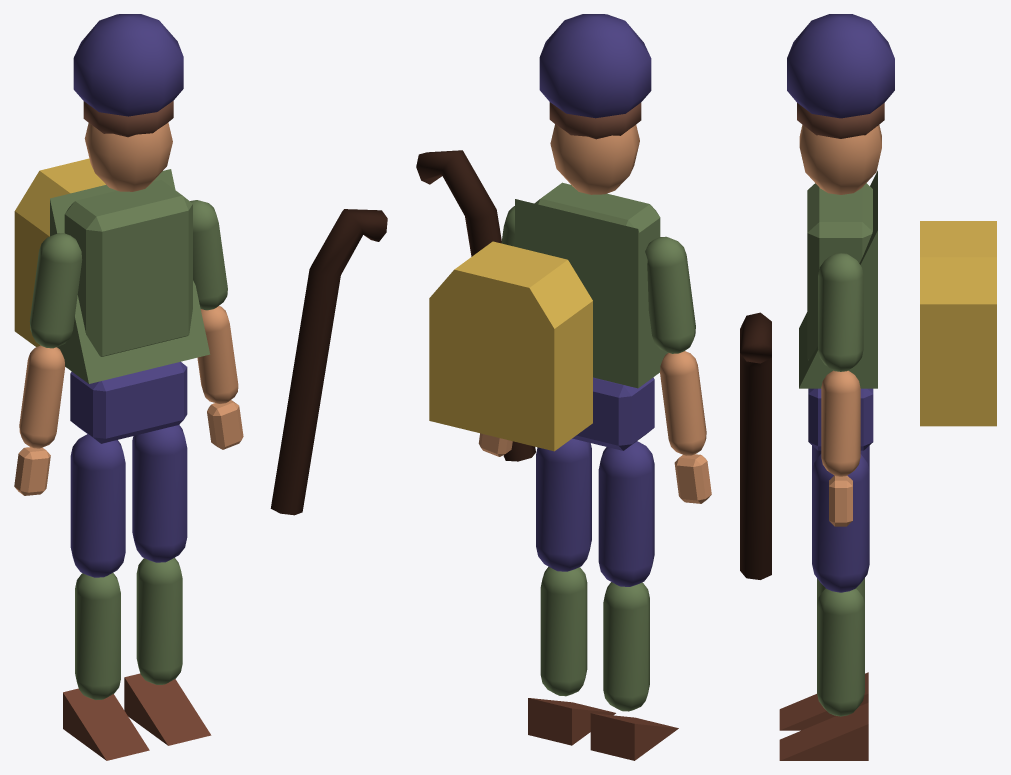
File: adventurer.rustic.glb
3 views of the same model, side by side, from view 1: azimuth 30°, elevation 25°; view 2: azimuth 150°, elevation 25°; view 3: azimuth 270°, elevation 25° (orthographic).
Visible parts, largest first — view 1: torso, accessory.main-hand, accessory.head, thigh.left, pelvis, thigh.right, tunic, shin.right, accessory.back, shin.left, upper-arm.left, head (+8 smaller); view 2: accessory.back, tunic, accessory.head, thigh.left, thigh.right, shin.right, shin.left, upper-arm.left, head, accessory.main-hand, pelvis, forearm.left (+6 smaller); view 3: accessory.back, accessory.head, accessory.main-hand, shin.right, thigh.right, torso, upper-arm.right, head, tunic, forearm.right, foot.right, hair (+3 smaller).
Boxes of the visible parts, <box> form: torso: <box>64,180,192,356</box>; accessory.main-hand: <box>270,209,387,515</box>; accessory.head: <box>73,14,183,116</box>; thigh.left: <box>70,434,125,577</box>; pelvis: <box>70,361,187,443</box>; thigh.right: <box>132,425,187,562</box>; tunic: <box>50,169,210,383</box>; shin.right: <box>136,557,182,684</box>; accessory.back: <box>14,158,105,346</box>; shin.left: <box>75,573,120,699</box>; upper-arm.left: <box>29,233,82,348</box>; head: <box>84,122,172,191</box>; accessory.back: <box>429,241,592,451</box>; tunic: <box>515,199,668,388</box>; accessory.head: <box>539,14,651,118</box>; thigh.left: <box>598,441,654,586</box>; thigh.right: <box>536,438,591,571</box>; shin.right: <box>540,566,587,696</box>; shin.left: <box>603,582,649,711</box>; upper-arm.left: <box>645,236,695,353</box>; head: <box>550,124,639,194</box>; accessory.main-hand: <box>416,150,535,461</box>; pelvis: <box>572,377,654,450</box>; forearm.left: <box>660,351,706,455</box>; accessory.back: <box>920,221,996,426</box>; accessory.head: <box>787,14,894,118</box>; accessory.main-hand: <box>740,312,771,579</box>; shin.right: <box>817,588,864,716</box>; thigh.right: <box>812,454,869,592</box>; torso: <box>807,183,872,360</box>; upper-arm.right: <box>818,253,863,371</box>; head: <box>799,125,881,194</box>; tunic: <box>799,170,877,388</box>; forearm.right: <box>821,370,860,476</box>; foot.right: <box>779,702,868,760</box>; hair: <box>797,103,884,138</box>.
Size of the model in its own units: 1.58 by 3.29 by 1.07.
